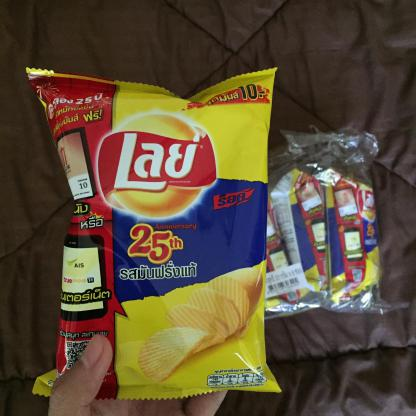potatochip: (16, 57, 297, 404)
